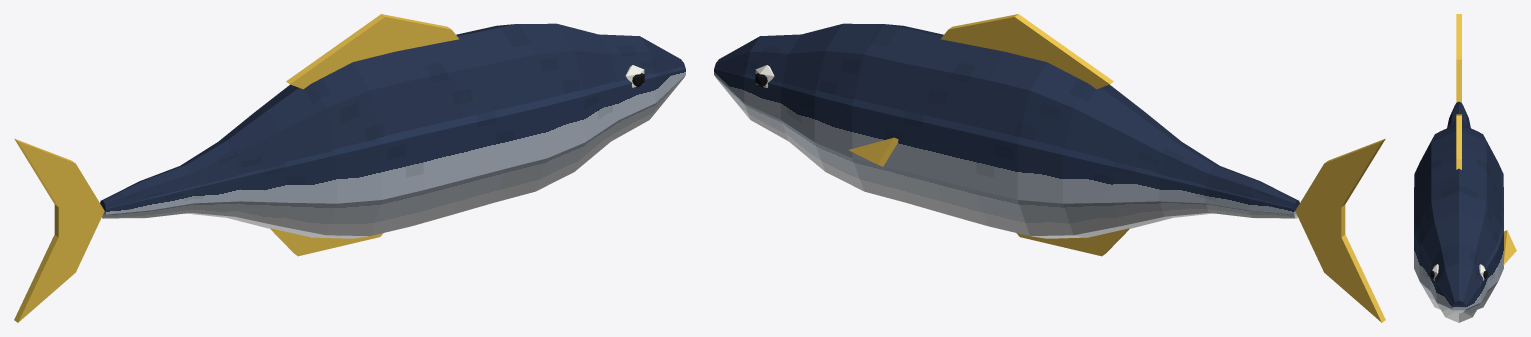
The model's file is silverback.glb.
3 renders of one model, left to right at view 1: azimuth 30°, elevation 25°; view 2: azimuth 150°, elevation 25°; view 3: azimuth 270°, elevation 25°, orthographic. The views are drawn at different scales.
Parts seen in each view (by area): view 1: fish_silverback; view 2: fish_silverback; view 3: fish_silverback.
Part boxes in pixels (bbox=[...]): fish_silverback: bbox=[14, 14, 685, 322]; fish_silverback: bbox=[714, 14, 1385, 322]; fish_silverback: bbox=[1414, 14, 1516, 322].
Size of the model in its own units: 1.15 by 0.3617 by 0.2178.
Materials: 4 (1 with a texture image).
